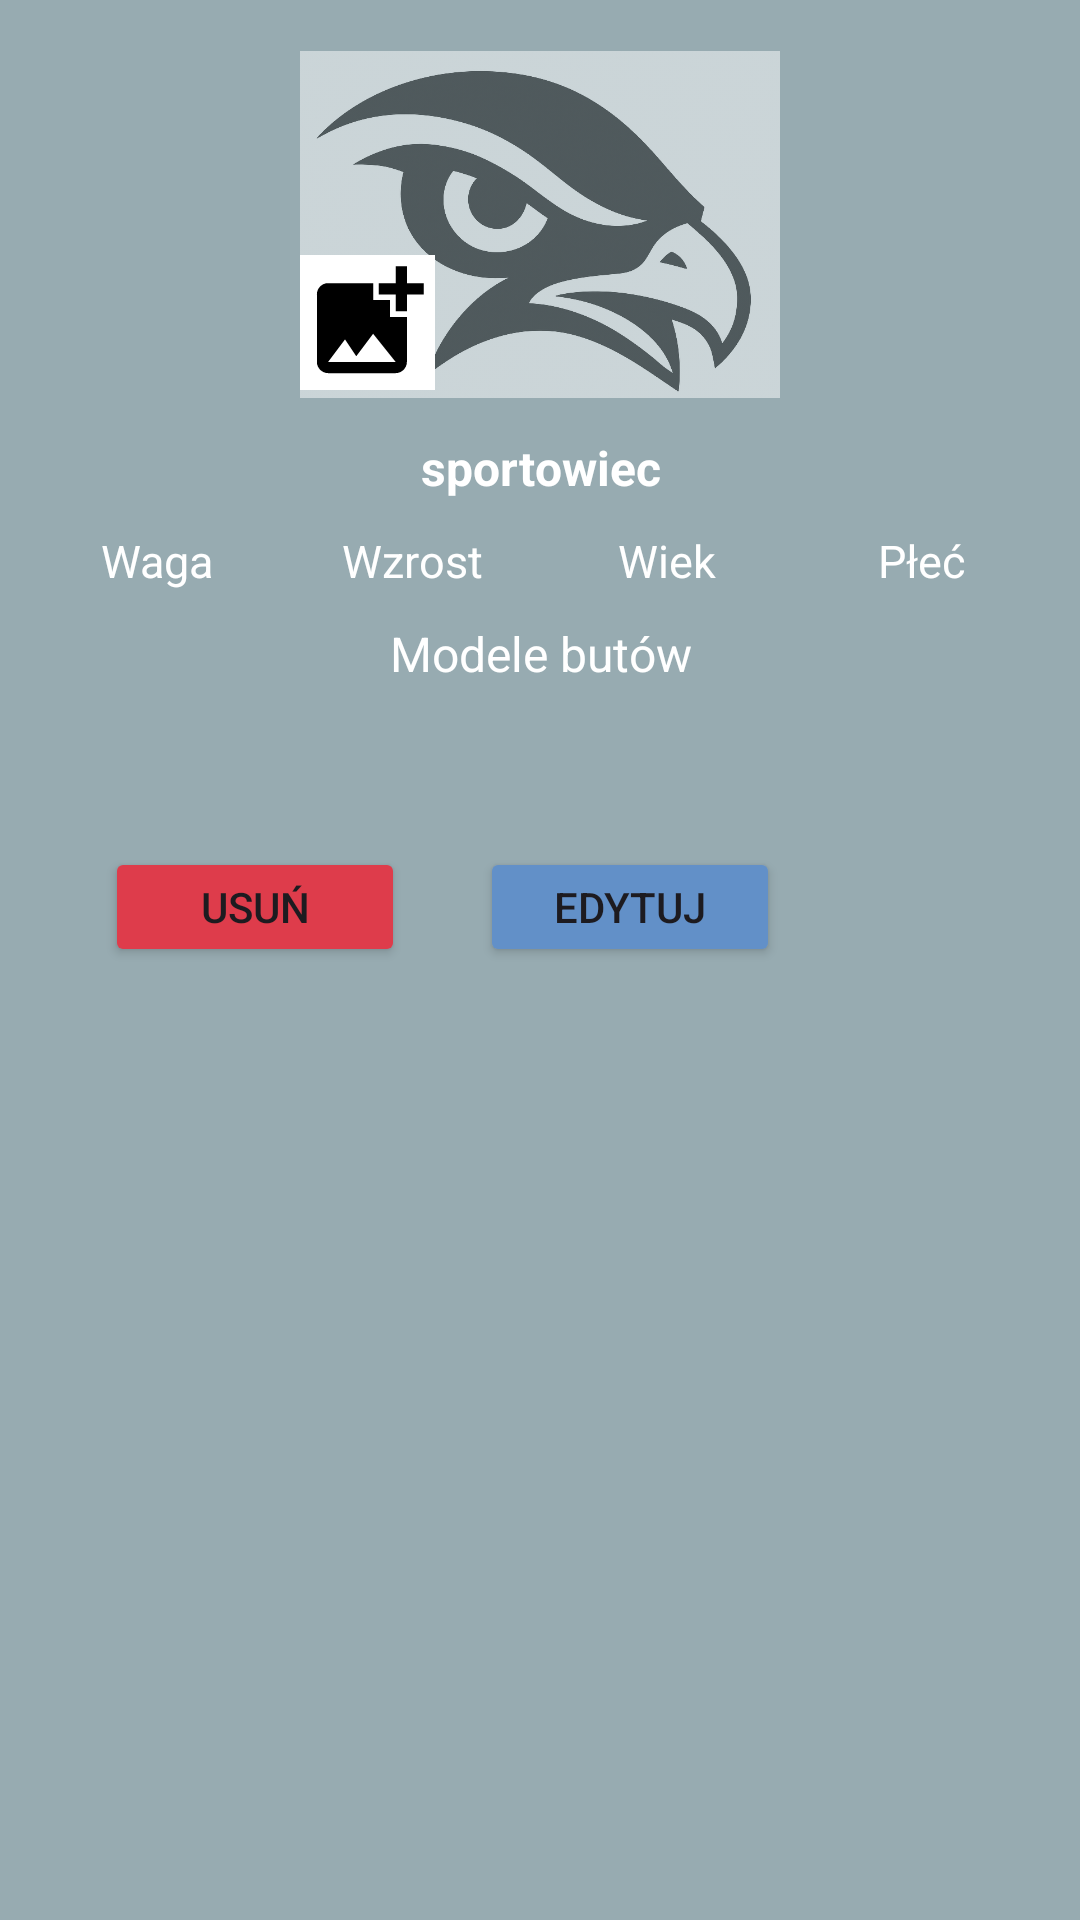

Screen size 1080 × 1920. Icon name, then its center in pixels as (x=x, y=y):
add photo from gallery: (x=367, y=322)
